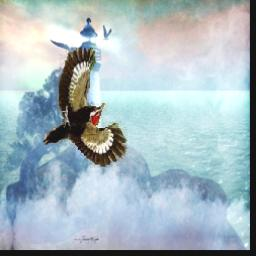Woodpecker: (42, 49, 127, 169)
